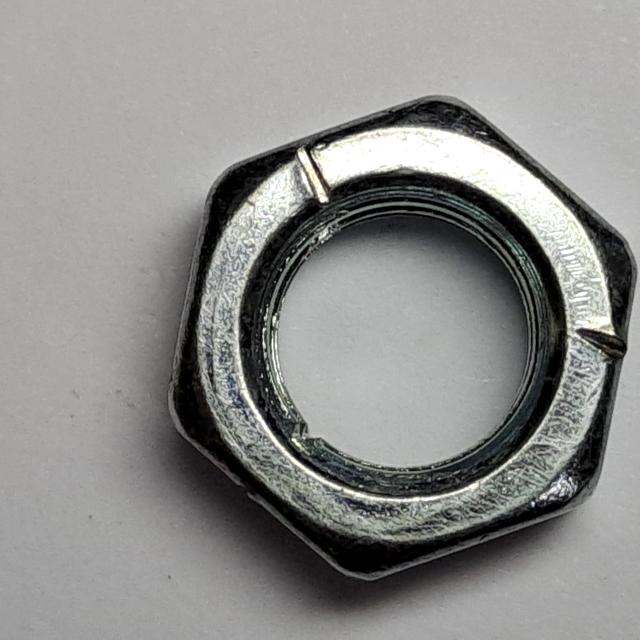Scratches: (157, 76, 640, 599)
